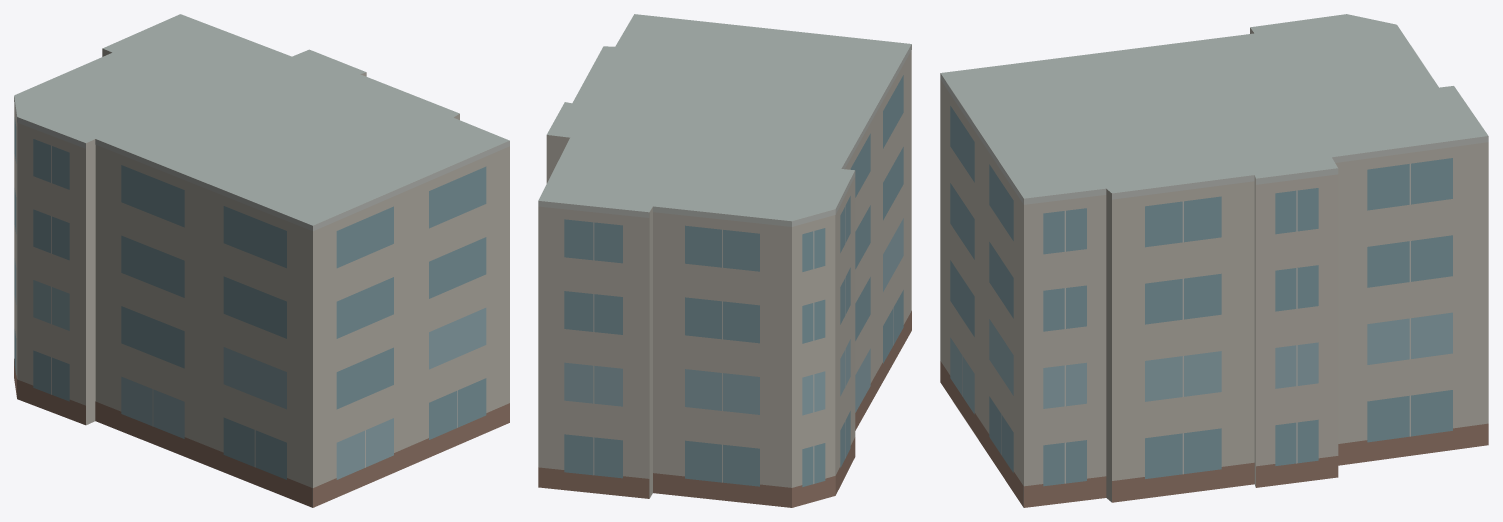
File: survey-upis-32678643.glb
3 renders of one model, left to right at view 1: azimuth 30°, elevation 25°; view 2: azimuth 150°, elevation 25°; view 3: azimuth 270°, elevation 25°, orthographic. The views are drawn at different scales.
Visible parts, largest first — view 1: survey-upis-32678643.tmp; view 2: survey-upis-32678643.tmp; view 3: survey-upis-32678643.tmp.
Boxes of the visible parts, left/top/right/bottom form: survey-upis-32678643.tmp: left=14, top=14, right=509, bottom=507; survey-upis-32678643.tmp: left=538, top=14, right=911, bottom=507; survey-upis-32678643.tmp: left=940, top=14, right=1488, bottom=507.
Bounding box in the file's own units: 15.64 × 12.2 × 19.61.
